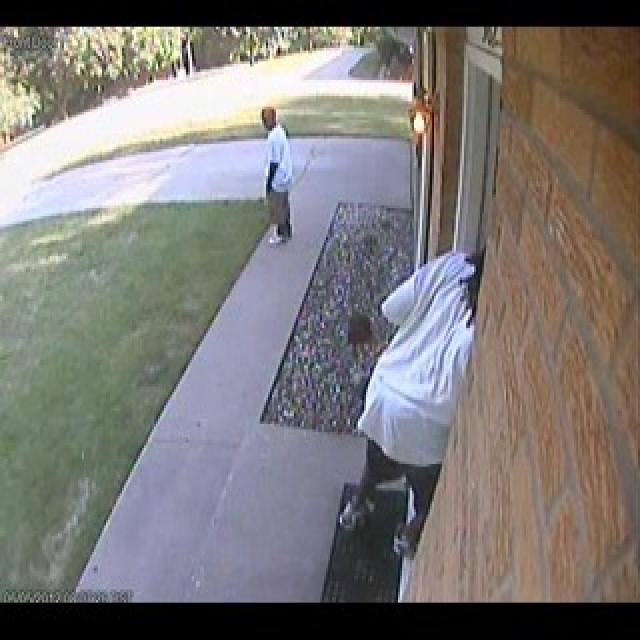burglary: (384, 261, 495, 528)
